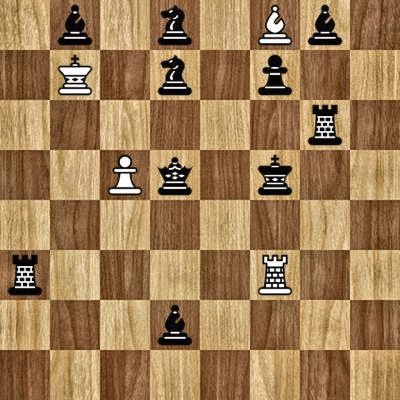black-bishop: (50, 0, 100, 50), (300, 0, 350, 50), (150, 300, 200, 350)
black-king: (250, 150, 300, 200)
black-knight: (150, 0, 200, 50), (150, 50, 200, 100)
black-pawn: (250, 50, 300, 100)
black-queen: (150, 150, 200, 200)
black-rook: (300, 100, 350, 150), (0, 250, 50, 300)
white-bishop: (250, 0, 300, 50)
white-king: (50, 50, 100, 100)
white-pawn: (100, 150, 150, 200)
white-rook: (250, 250, 300, 300)
